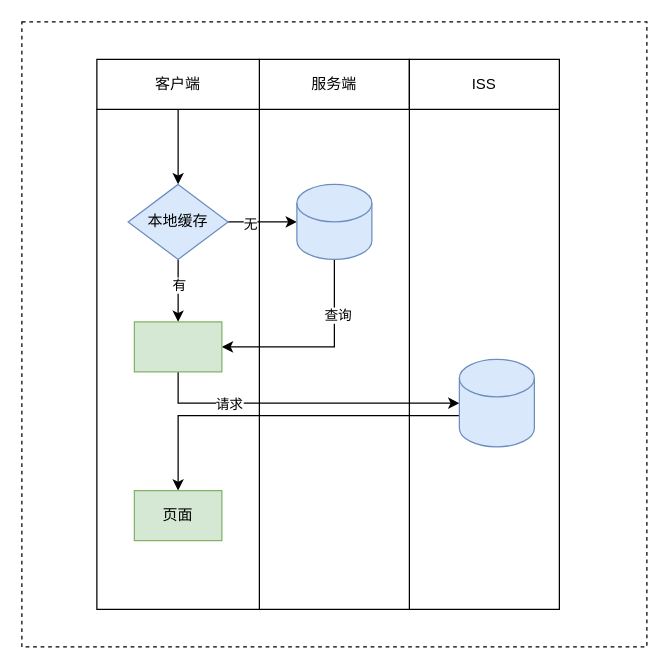
Image size: 669x669. Some labels were removed from this diagram. Each missing label, with the centre of its shape:
"数据库" goes at point 334,221.
"资源" goes at point 496,402.
"资源链接" goes at point 177,346.
